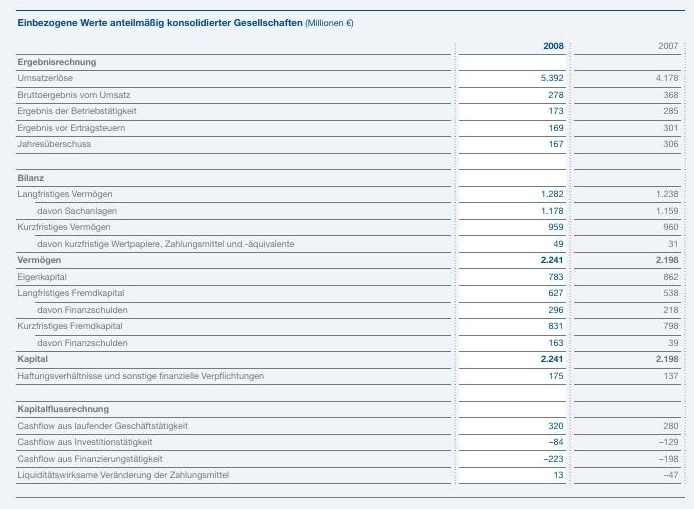table: (0, 0, 694, 509)
